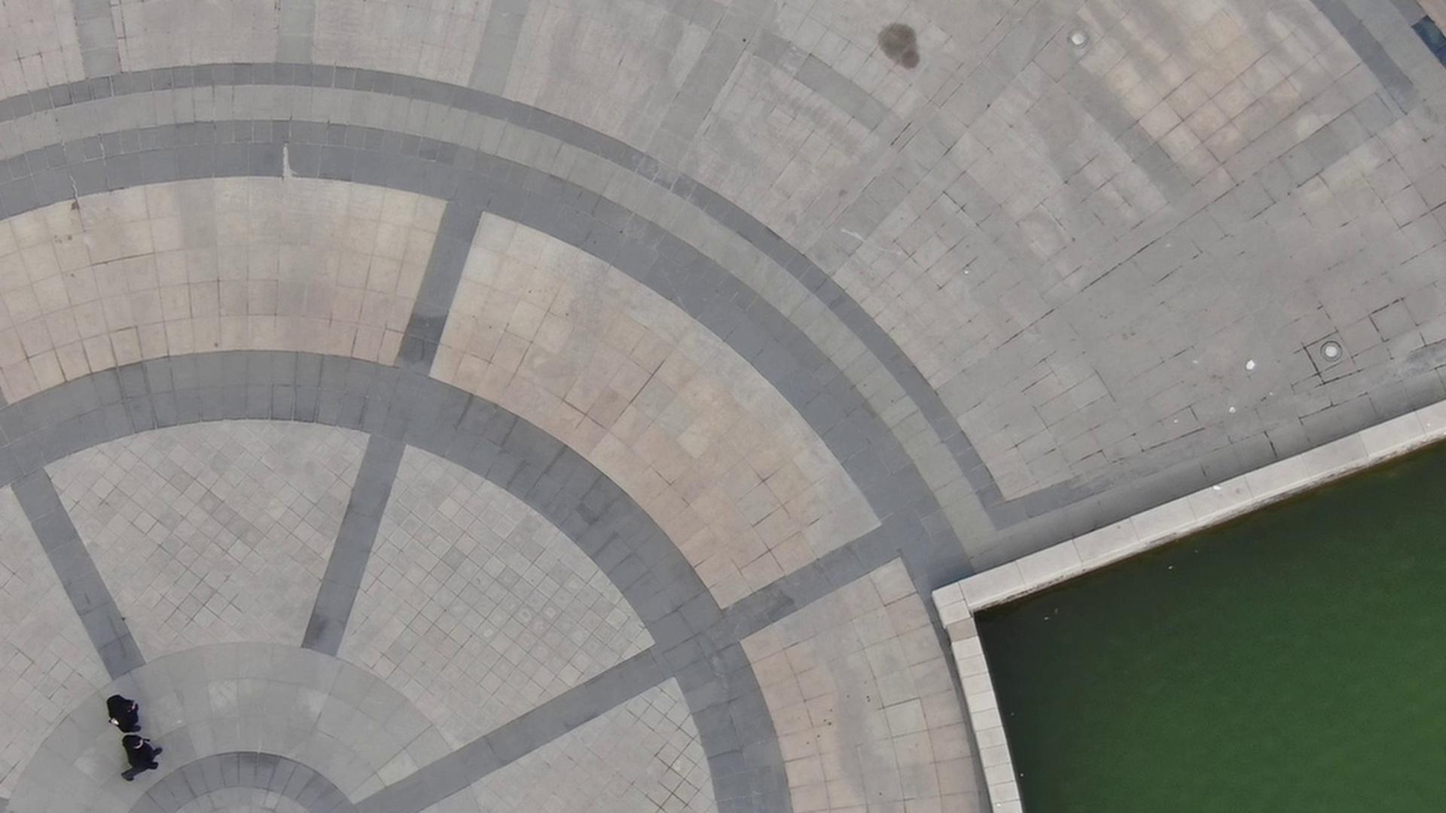human: (117, 675, 168, 731), (134, 728, 183, 780)
